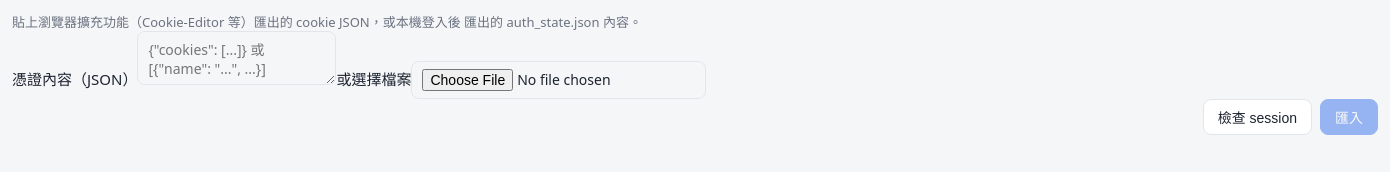
Test case: LoginSettingsSection › shows the expired-session message when the live check finds an invalid session
Click the button "檢查 session" at (1257, 117), box [1203, 99, 1312, 135]
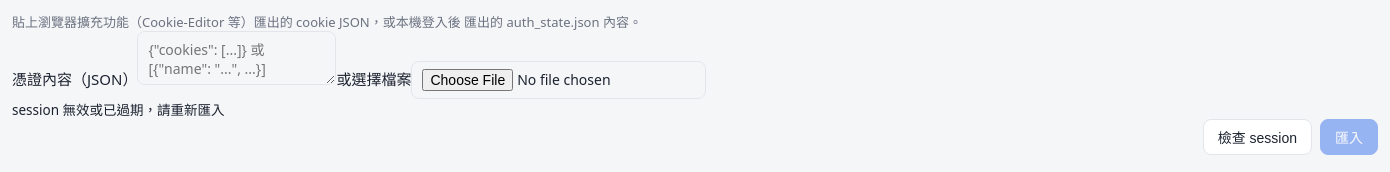
Check: the text "session 無效或已過期，請重新匯入" is shown, box [12, 101, 224, 119]
